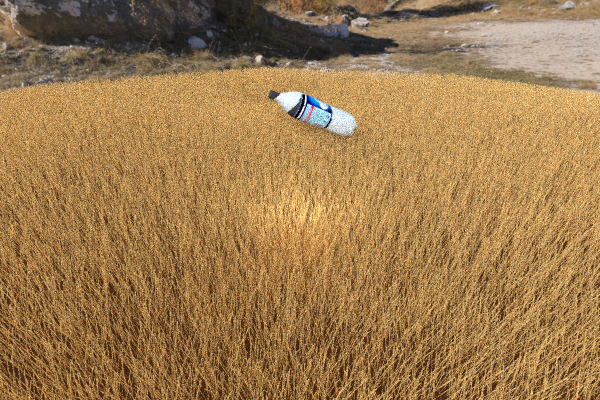bottle: (268, 90, 357, 136)
can: (47, 115, 117, 155), (507, 109, 571, 136)
